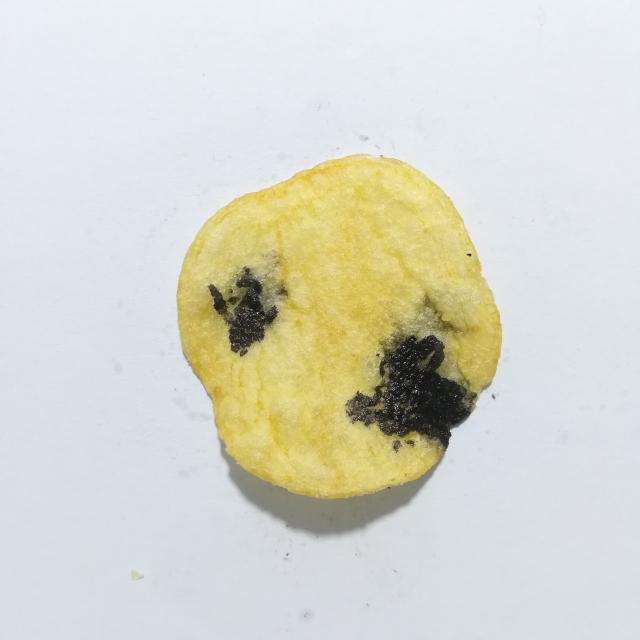chip: (177, 155, 501, 498)
damaged: (346, 334, 477, 450), (208, 267, 278, 356), (392, 440, 400, 452), (280, 285, 288, 296), (405, 440, 415, 447), (229, 289, 233, 294), (376, 353, 380, 357), (467, 253, 471, 256)
semi-damaged: (380, 293, 473, 393), (249, 245, 288, 309), (232, 285, 246, 300)
